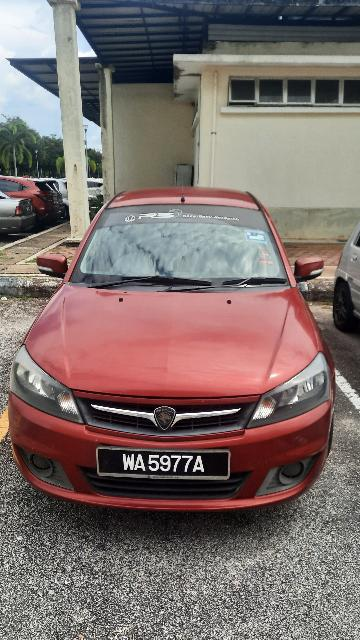License_Plate: (98, 444, 232, 482)
car: (5, 181, 341, 524)
